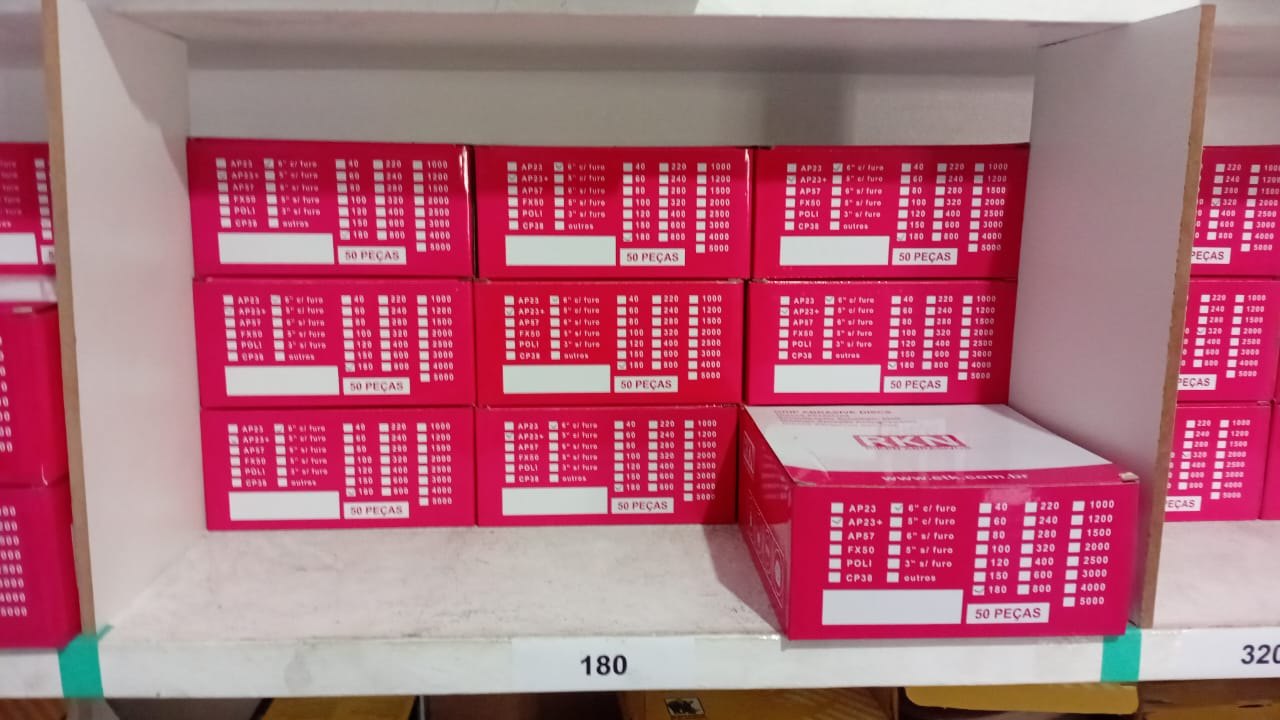objects: (123, 60, 1158, 692)
